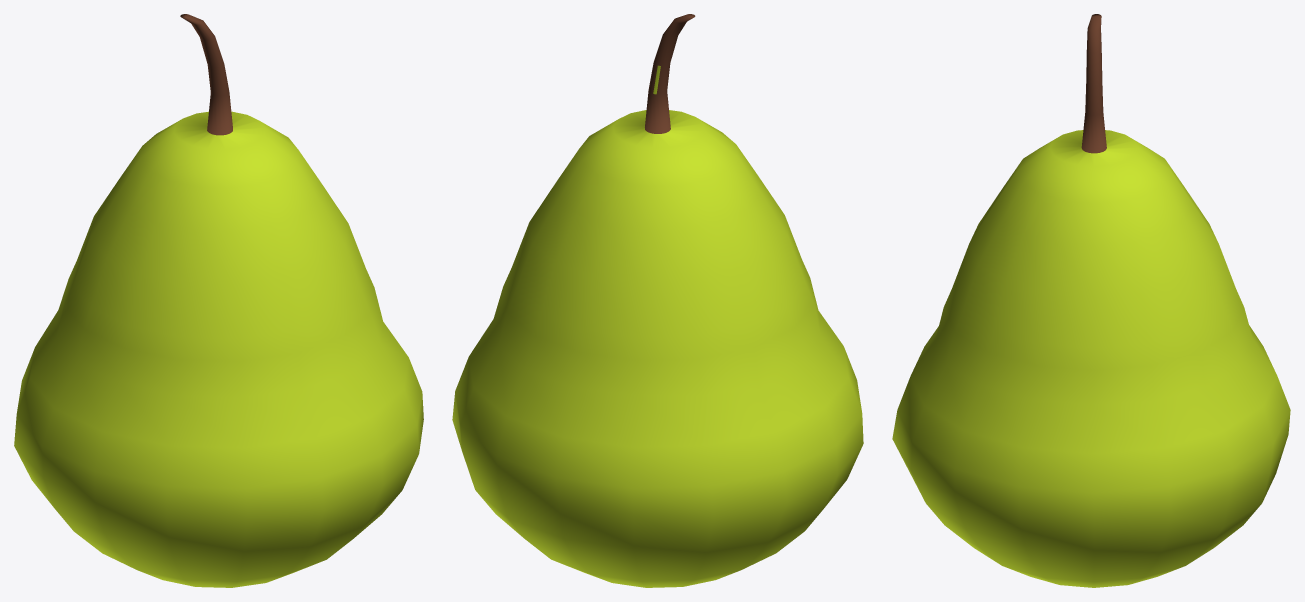
Rendered from pera.fbx.
3 views of the same model, side by side, from view 1: azimuth 30°, elevation 25°; view 2: azimuth 150°, elevation 25°; view 3: azimuth 270°, elevation 25° (orthographic). The views are drawn at different scales.
Parts seen in each view (by area): view 1: Circle; view 2: Circle; view 3: Circle.
Part boxes in pixels (box(x1,y1,x2,y2)): Circle: box(14, 14, 423, 587); Circle: box(452, 14, 863, 587); Circle: box(892, 14, 1290, 587).
Bounding box in the file's own units: 803 × 1164 × 810.
